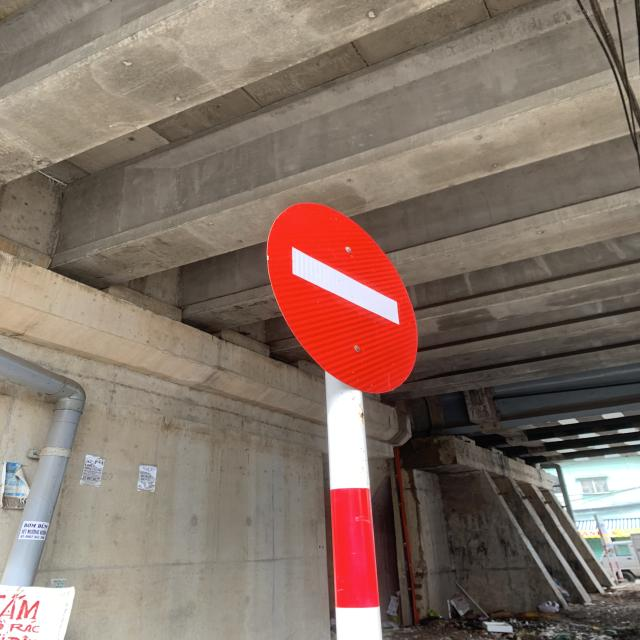Cam_Di_Nguoc_Chieu: (271, 202, 423, 389)
